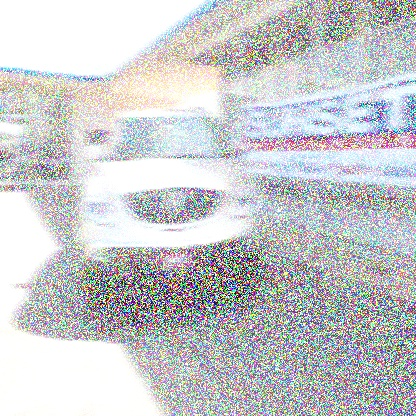Vehicle: (79, 106, 265, 312)
